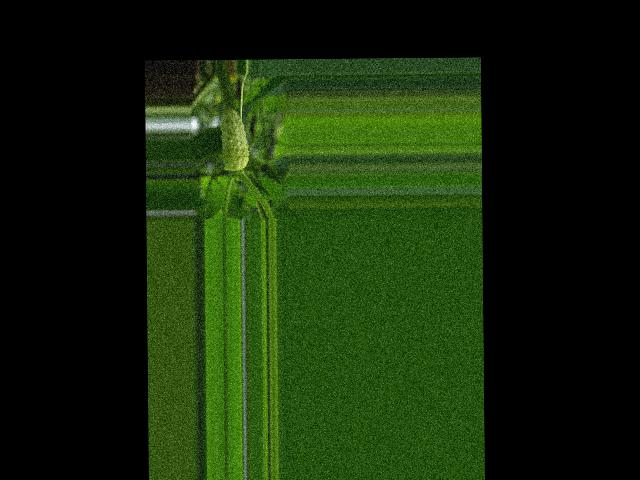cucumber: (221, 106, 249, 171)
